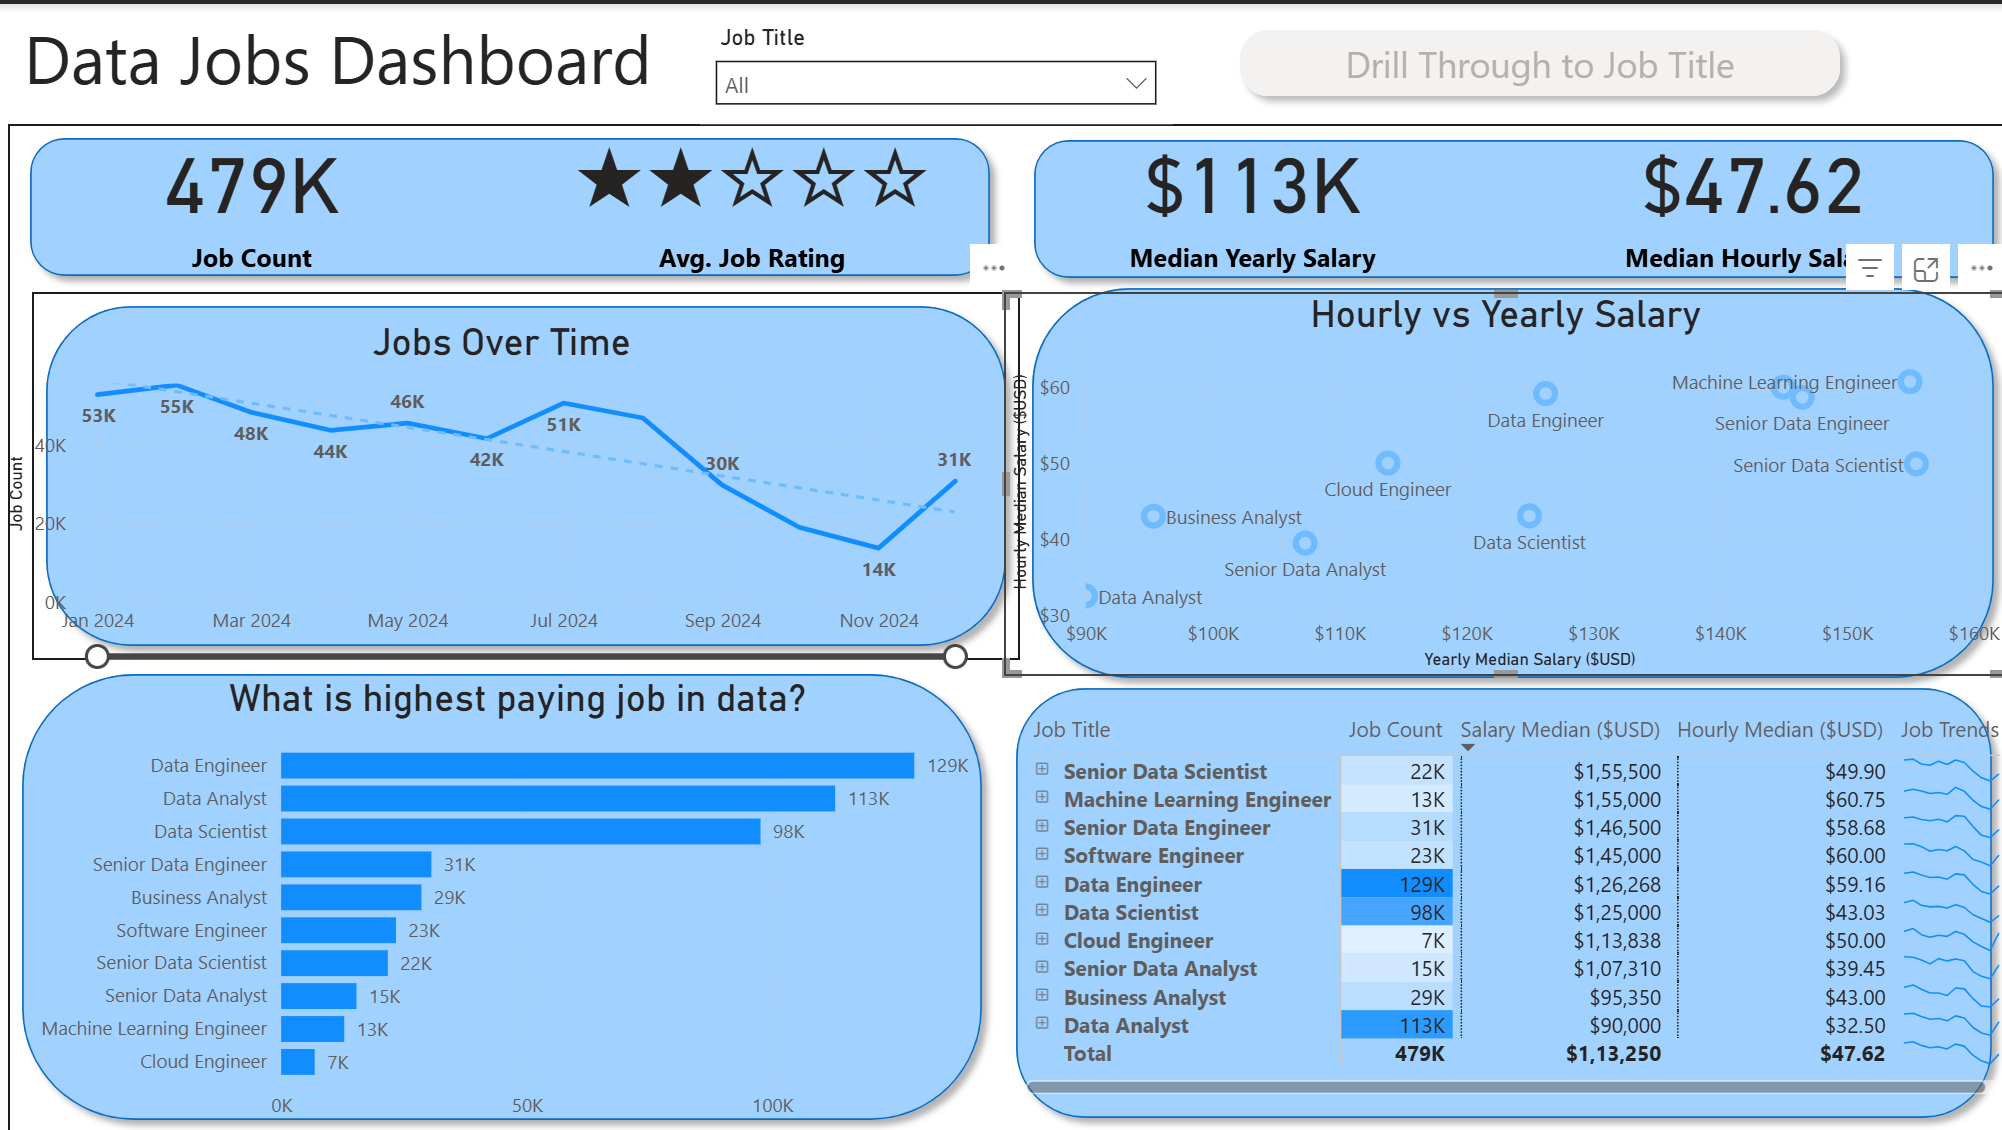

This screenshot's page, from the dashboard's own definition file:
{"tool":"powerbi","page":{"name":"Data Jobs Dashboard","canvas":[1280,720],"ordinal":0},"visuals":[{"type":"group","id":"g1","title":"Background","box":[5.1,76.5,1274.9,643.8],"z":0},{"type":"shape","box":[10.2,76.5,629.8,105.8],"z":0,"group":"g1"},{"type":"textbox","box":[10.2,0,436,76.5],"z":1000},{"type":"shape","box":[650.2,77.8,629.8,105.8],"z":1000,"group":"g1"},{"type":"slicer","fields":{"Values":["job_postings_flat.job_title_short"]},"box":[446.2,7.6,300.9,68.8],"z":2000},{"type":"shape","box":[20.4,183.6,629.8,234.6],"z":2000,"group":"g1"},{"type":"cardVisual","fields":{"Data":["CountNonNull(job_postings_flat.job_title_short)","job_postings_flat.Job Rating","Median(job_postings_flat.salary_year_avg)","Median(job_postings_flat.salary_hour_avg)"]},"box":[0,76.5,1280,105.8],"z":3000},{"type":"shape","box":[650.2,172.1,629.8,255],"z":3000,"group":"g1"},{"type":"lineChart","title":"What is trend of jobs in 2024?","fields":{"Category":["job_postings_flat.job_posted_date.Variation.Date Hierarchy.Year","job_postings_flat.job_posted_date.Variation.Date Hierarchy.Quarter","job_postings_flat.job_posted_date.Variation.Date Hierarchy.Month","job_postings_flat.job_posted_date.Variation.Date Hierarchy.Day"],"Y":["CountNonNull(job_postings_flat.job_title_short)"]},"box":[0,201.4,640,225.7],"z":4000},{"type":"shape","box":[5.1,418.2,629.8,302.2],"z":4000,"group":"g1"},{"type":"shape","box":[639.5,417.9,639.2,301.7],"z":5000,"group":"g1"},{"type":"barChart","title":"What is highest paying job in data?","fields":{"Category":["job_postings_flat.job_title_short"],"Y":["CountNonNull(job_postings_flat.job_title_short)"]},"box":[1.3,427.1,638.7,294.5],"z":5000},{"type":"scatterChart","title":"Hourly vs Yearly Salary of Data Jobs","fields":{"Y":["Median(job_postings_flat.salary_hour_avg)"],"X":["Median(job_postings_flat.salary_year_avg)"],"Series":["job_postings_flat.job_title_short"]},"box":[640,182.3,640,244.8],"z":6000},{"type":"pivotTable","fields":{"Rows":["job_postings_flat.job_title_short","job_postings_flat.job_posted_date.Variation.Date Hierarchy.Quarter"],"Values":["CountNonNull(job_postings_flat.job_title_short)","Median(job_postings_flat.salary_year_avg)","Median(job_postings_flat.salary_hour_avg)","SparklineData(CountNonNull(job_postings_flat.job_title_short)_[job_postings_flat.job_posted_date.Variation.Date Hierarch"]},"box":[648.6,427.7,631.4,292.4],"z":7000},{"type":"actionButton","title":"Drill through to Job Title","box":[781.5,7.6,400.3,59.9],"z":8000}]}

Visuals, with their boxes in screenshot pixels (x1, y1, x2, y2), scaled from the page's 1280x720 canvas onto the 2002x1130 screenshot:
"Background" group: l=8, t=120, r=2001, b=1129
shape: l=16, t=120, r=1001, b=286
textbox: l=16, t=0, r=698, b=120
shape: l=1017, t=122, r=2001, b=288
slicer - job_postings_flat.job_title_short: l=698, t=12, r=1169, b=120
shape: l=32, t=288, r=1017, b=656
cardVisual - CountNonNull(job_postings_flat.job_title_short) x job_postings_flat.Job Rating: l=0, t=120, r=2001, b=286
shape: l=1017, t=270, r=2001, b=670
"What is trend of jobs in 2024?" lineChart: l=0, t=316, r=1001, b=670
shape: l=8, t=656, r=993, b=1129
shape: l=1000, t=656, r=2000, b=1129
"What is highest paying job in data?" barChart: l=2, t=670, r=1001, b=1129
"Hourly vs Yearly Salary of Data Jobs" scatterChart: l=1001, t=286, r=2001, b=670
pivotTable - job_postings_flat.job_title_short x job_postings_flat.job_posted_date.Variation.Date Hierarchy.Quarter: l=1014, t=671, r=2001, b=1129
"Drill through to Job Title" actionButton: l=1222, t=12, r=1848, b=106
